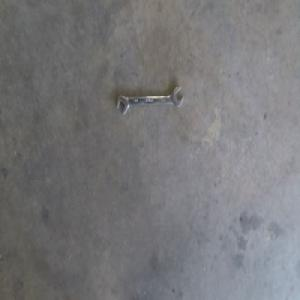Wrench: (116, 97, 183, 124)
